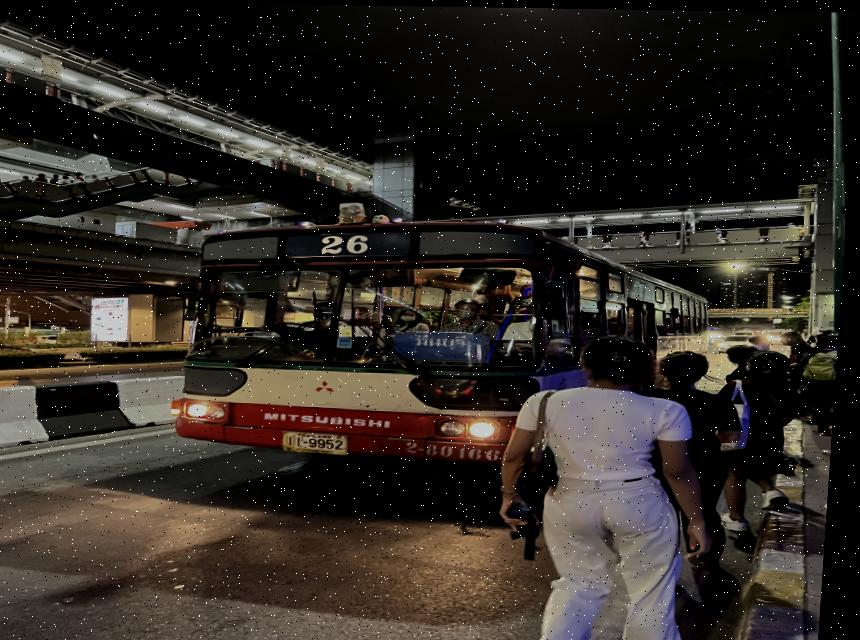BMTA-bus: (176, 219, 711, 467)
Bus Line Number: (309, 228, 393, 255)
Bus Side Number: (406, 436, 509, 464)
Destination Sign: (398, 330, 496, 360)
